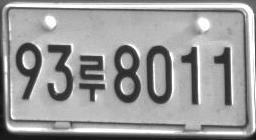0: (145, 44, 172, 105)
1: (211, 46, 240, 106), (178, 46, 205, 105)
3: (47, 43, 74, 101)
8: (113, 44, 141, 104)
9: (15, 41, 43, 100)
루: (78, 54, 105, 102)
